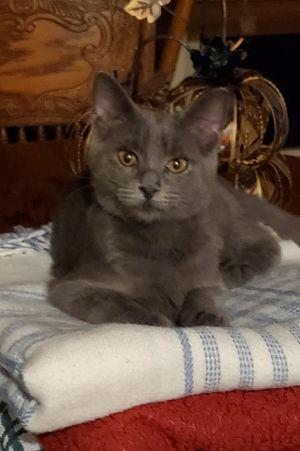rblue: (75, 65, 243, 233)
